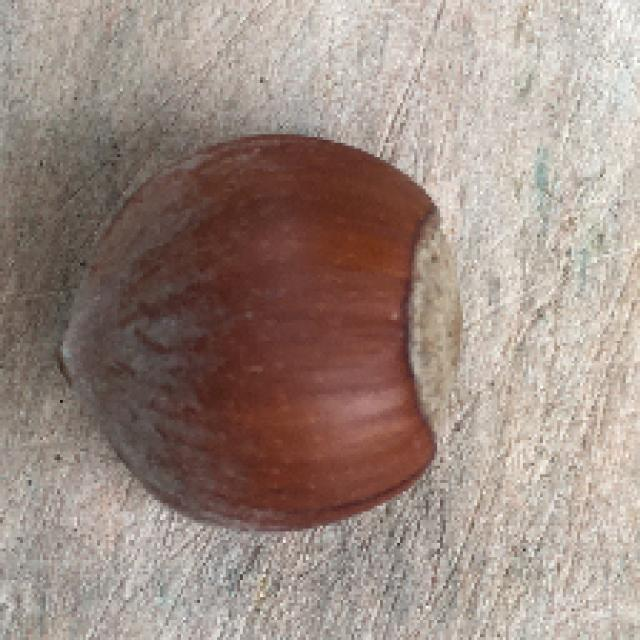QualityHazelnut: (56, 131, 468, 531)
